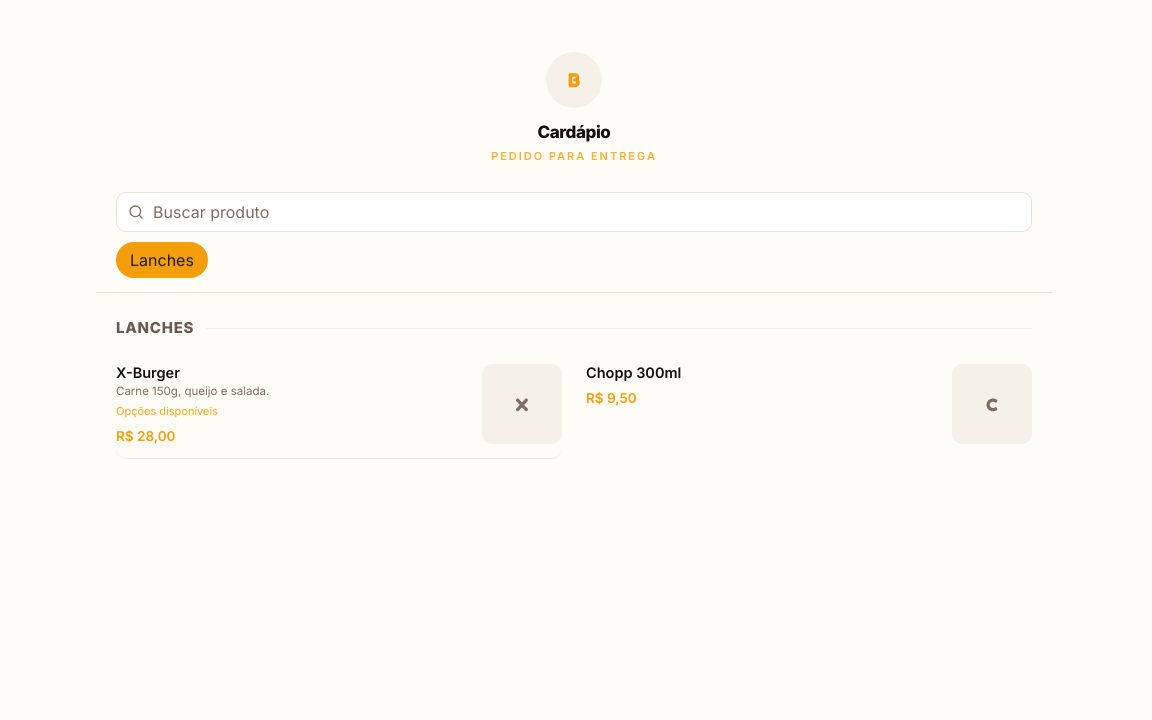
CustomerMenuPage (integração) › Produto com variação abre a ficha (não entra no carrinho em um toque)
This screenshot has width=1152, height=720.
Click the button with aria-label "Ver X-Burger" at [148, 372], box left=116, top=364, right=470, bottom=446
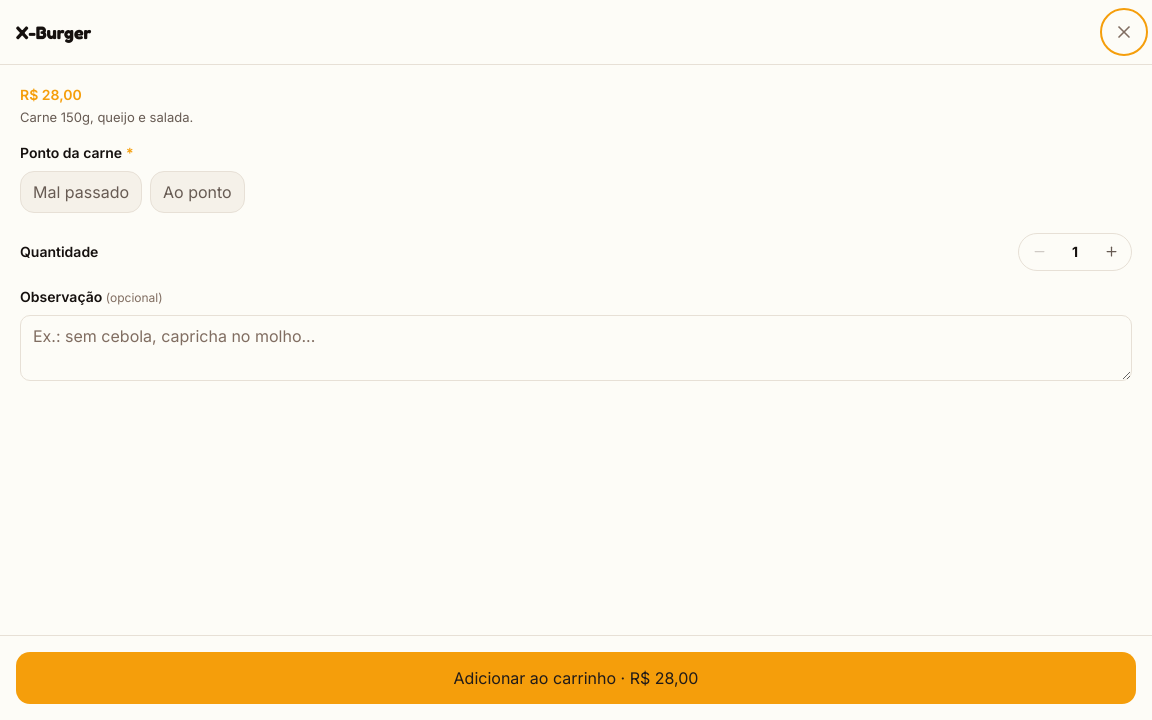
expect the dialog is shown: met
# confirmar sem opção obrigatória não cria linha
Click the text "Adicionar ao carrinho" at [535, 678], box left=454, top=668, right=616, bottom=688
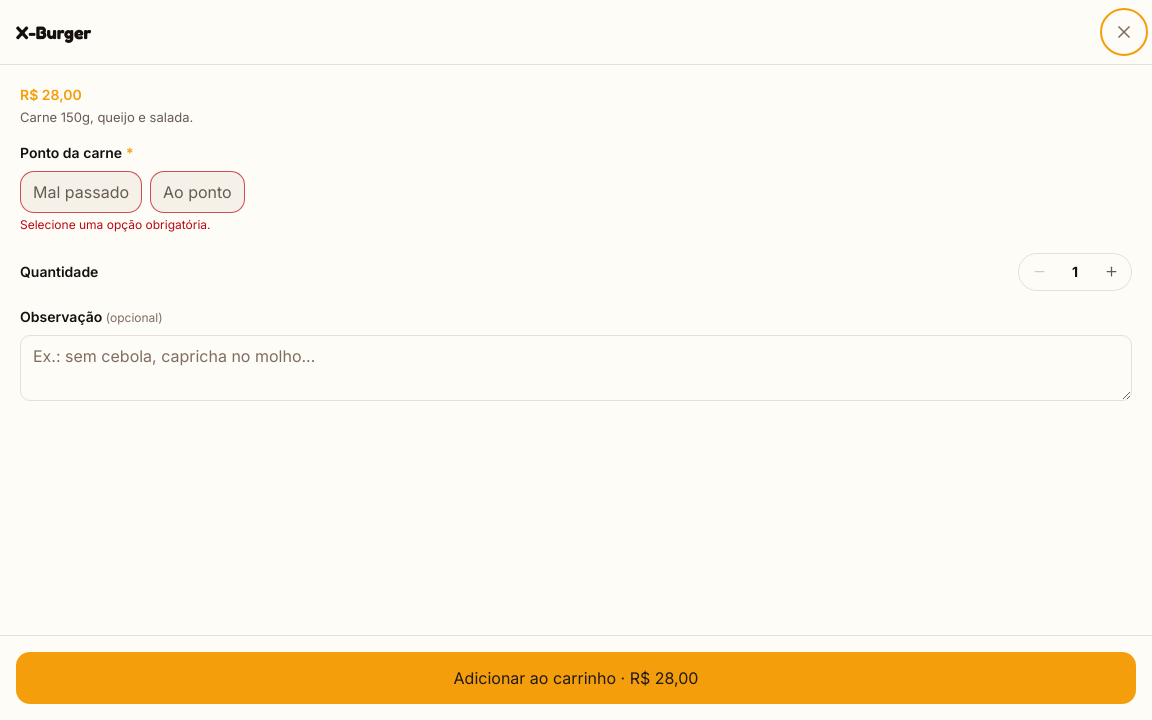
expect the text "Selecione uma opção obrigatória." is shown: met, box left=20, top=217, right=210, bottom=232
Click the button "Ao ponto" at [197, 192], box left=150, top=171, right=245, bottom=213
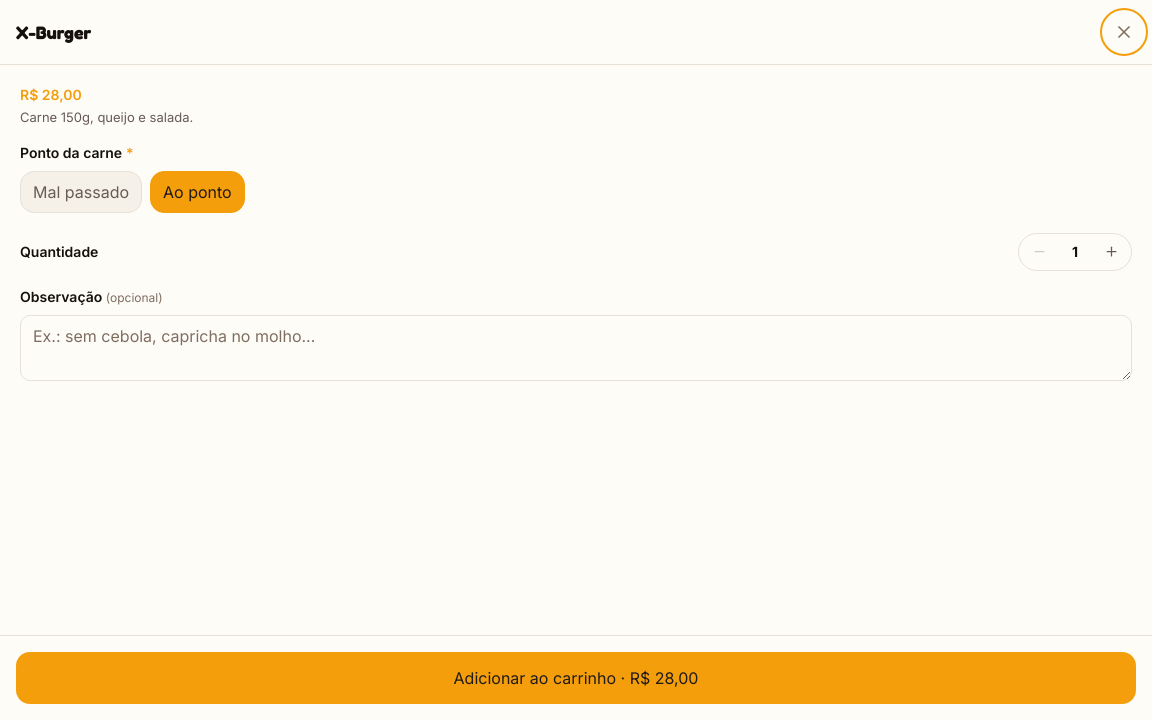
Click the text "Adicionar ao carrinho" at [535, 678], box left=454, top=668, right=616, bottom=688
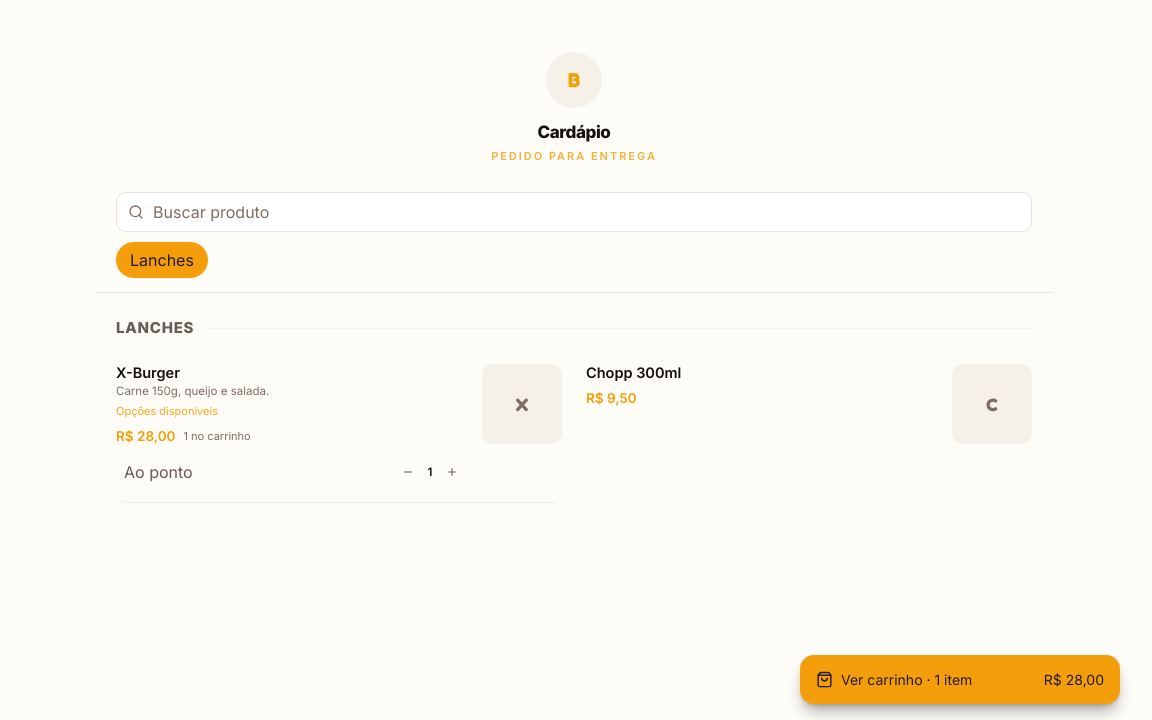
expect the text "Selecione uma opção obrigatória." is not shown: met
Click the text "Ver carrinho · 1 item" at [894, 680], box left=816, top=669, right=972, bottom=690
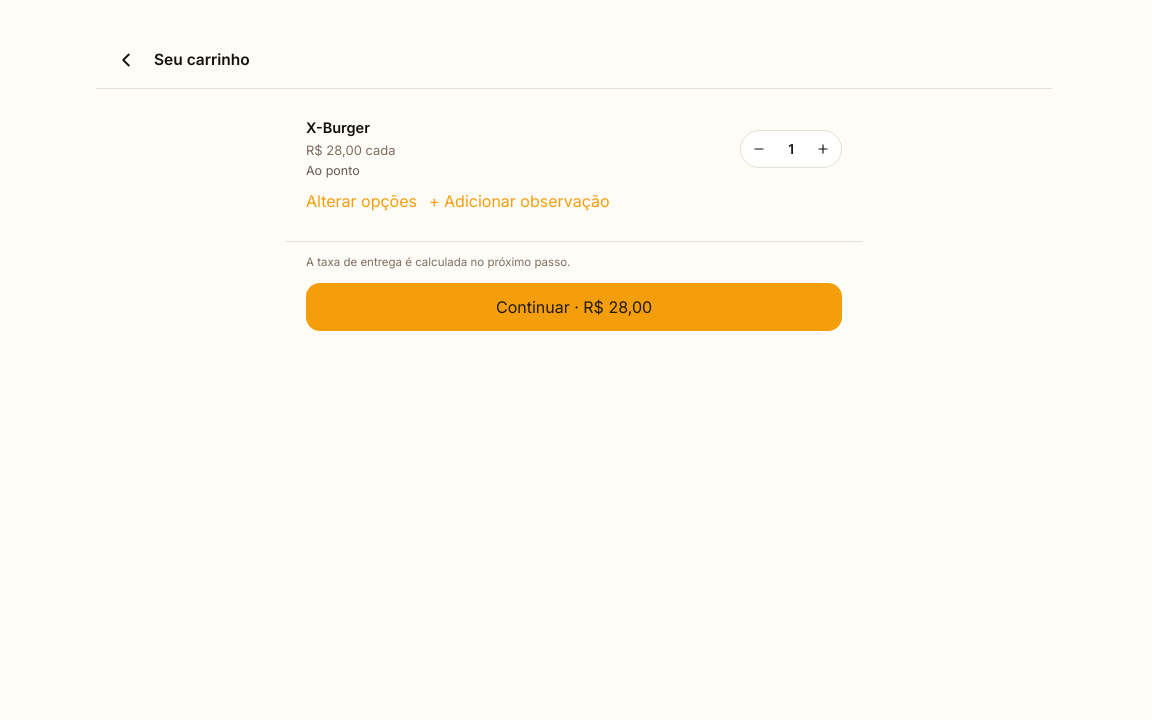
expect the text "X-Burger" is shown: met, box left=306, top=119, right=370, bottom=136
expect the heading "Seu carrinho" is shown: met, box left=154, top=48, right=250, bottom=72
